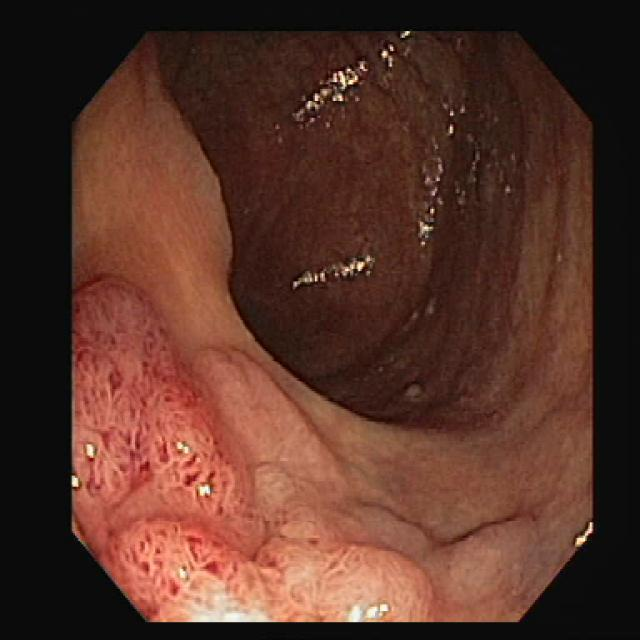tumor: (75, 278, 523, 620)
